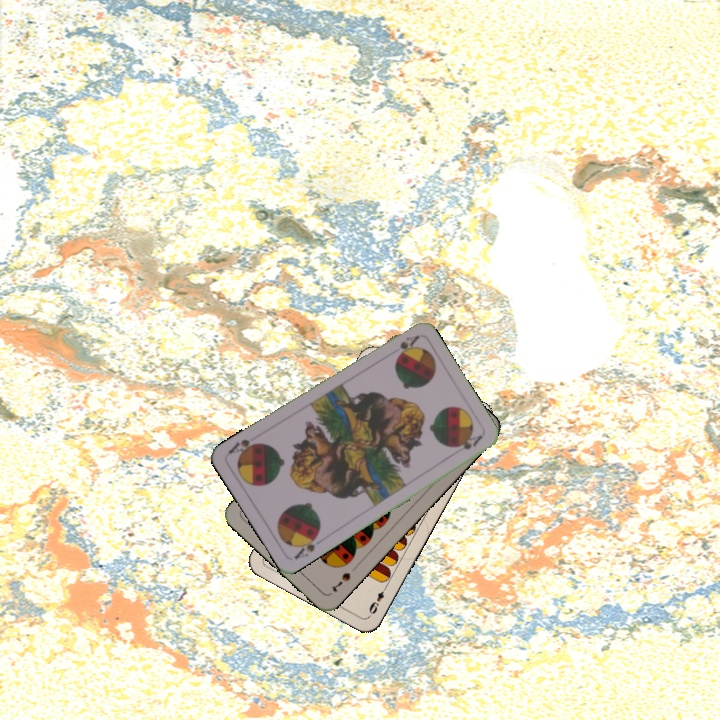E9: (365, 581, 390, 618)
S7: (328, 568, 353, 595)
SA: (290, 529, 326, 562), (393, 331, 421, 359)
